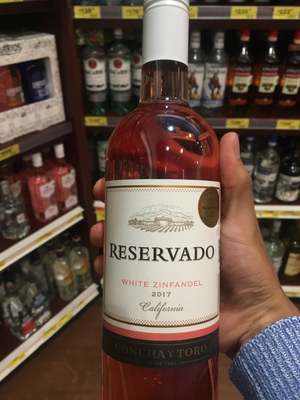reservado white zinfandel: (88, 25, 235, 400)
